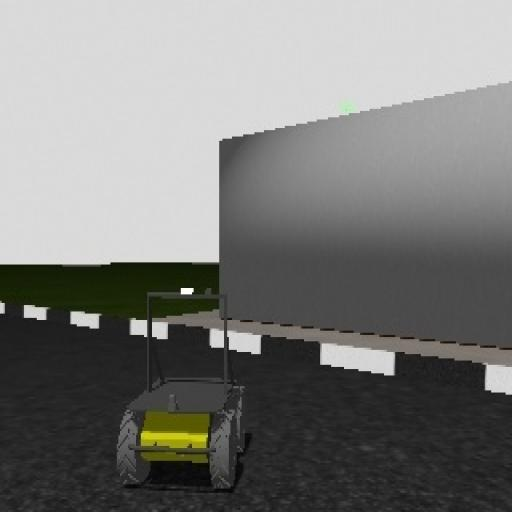huskya200: (114, 264, 256, 508)
